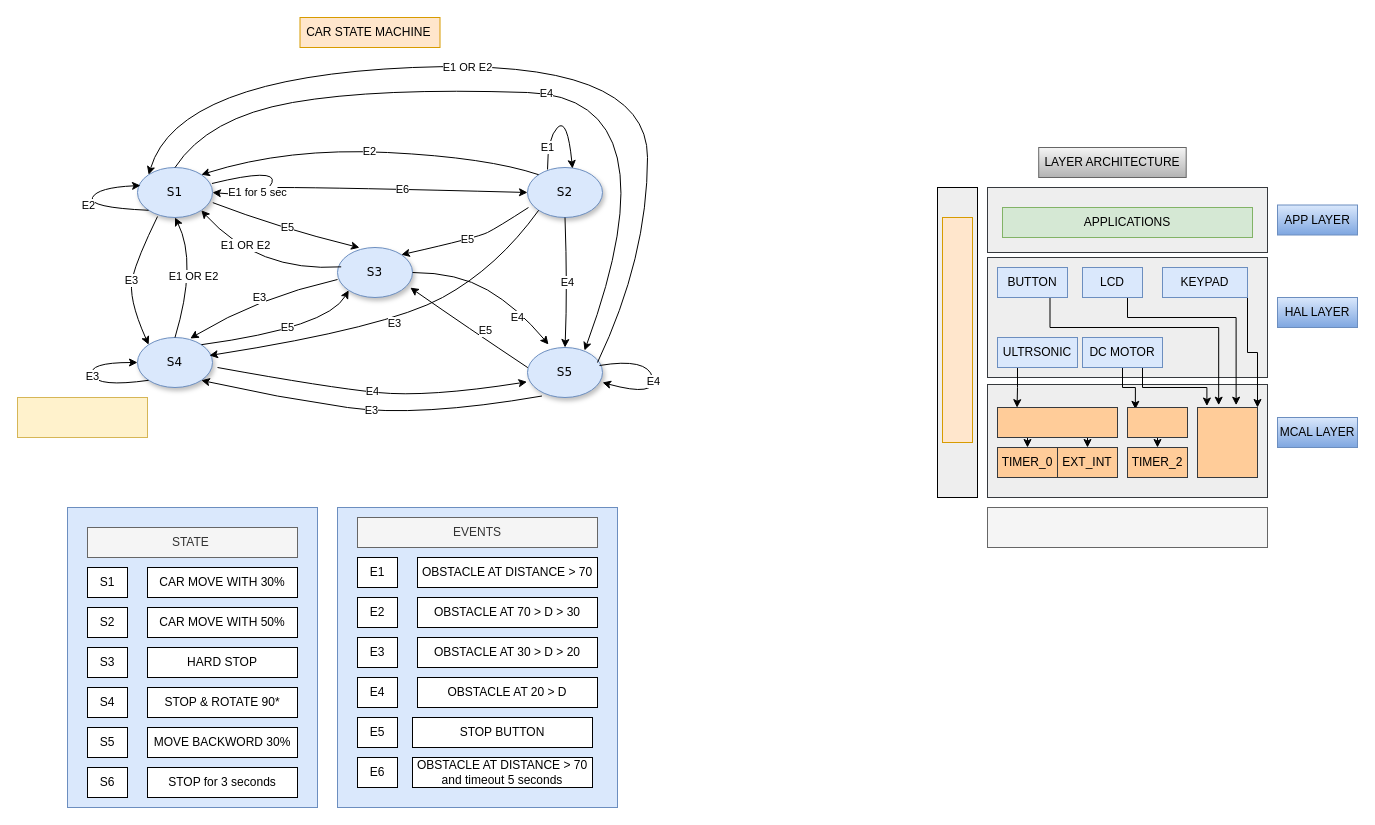
The diagram is 1375 pixels wide and 825 high, and some of its shapes have lost their labels. The centre of each missing label's shape, as x and y in pixels:
count++ and check if count = 4 move to S3: (82,417)
GPIO: (1227,442)
ICU: (1057,422)
MCU: (1127,527)
PWM: (1157,422)
UTILITIES: (957,329)
